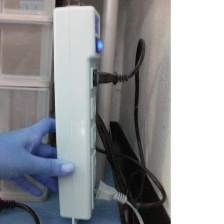three_eye_plug: (47, 2, 104, 223)
